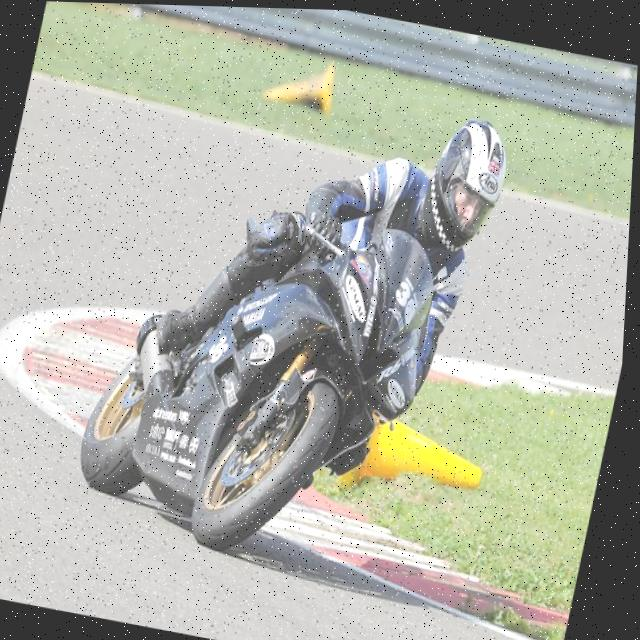motorcycle: (45, 118, 506, 596)
